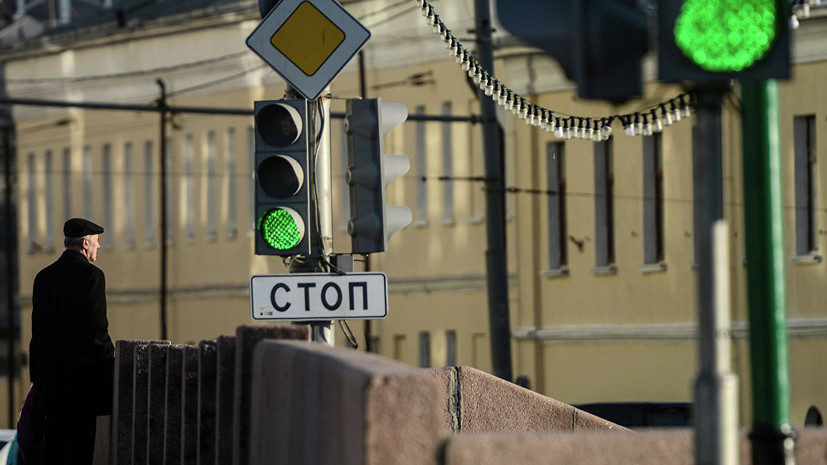tl: (344, 95, 412, 259), (251, 99, 315, 259)
